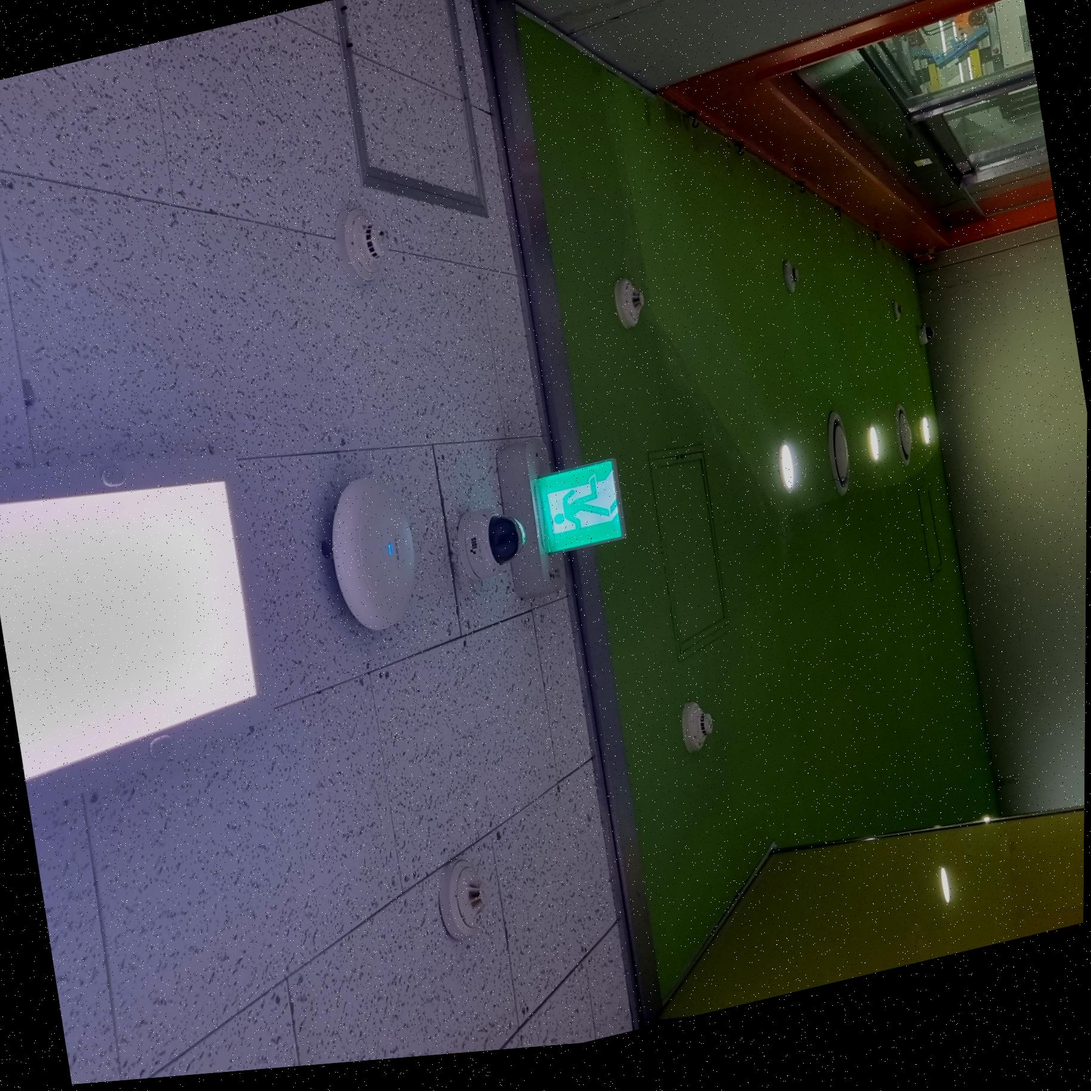emergency_exit: (531, 457, 626, 556)
